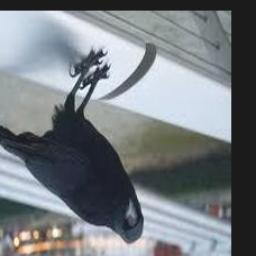Crow: (0, 49, 143, 243)
